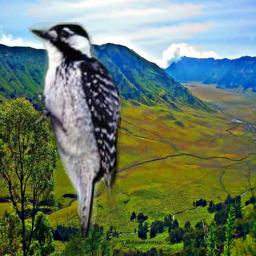Woodpecker: (28, 22, 121, 238)
